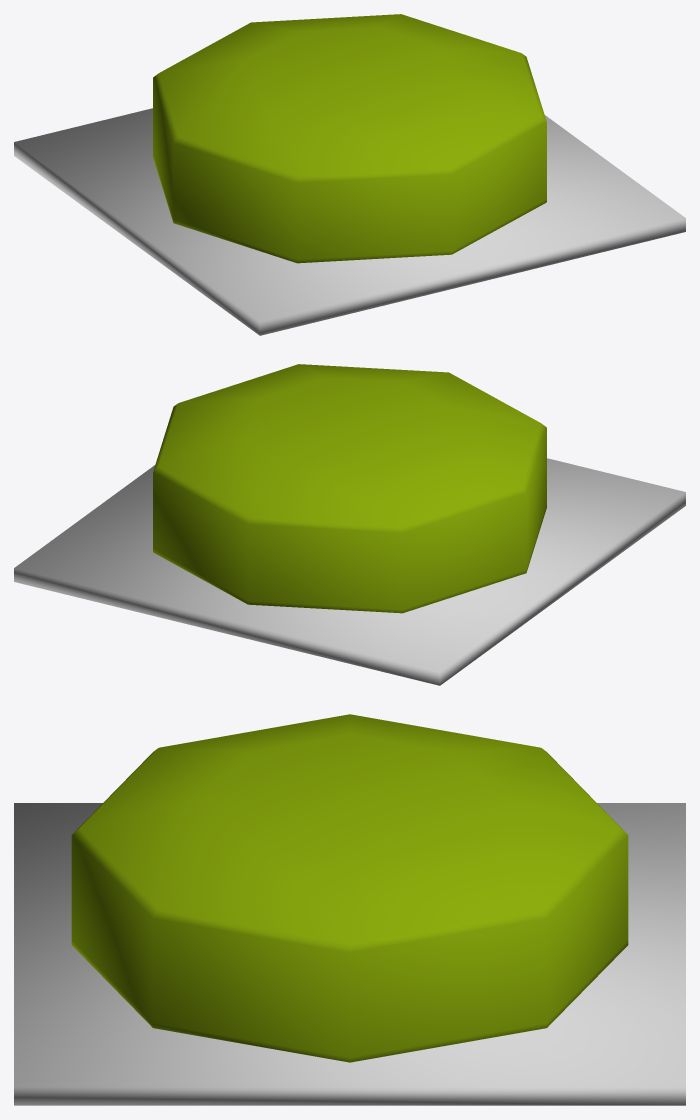
The model's file is pieces-classic-select.gltf.
The picture shows the model from 3 angles, top to bottom: view 1: azimuth 30°, elevation 25°; view 2: azimuth 150°, elevation 25°; view 3: azimuth 270°, elevation 25°; orthographic projection. The views are drawn at different scales.
Bounding box in the file's own units: 1.7 × 0.4695 × 1.7.
